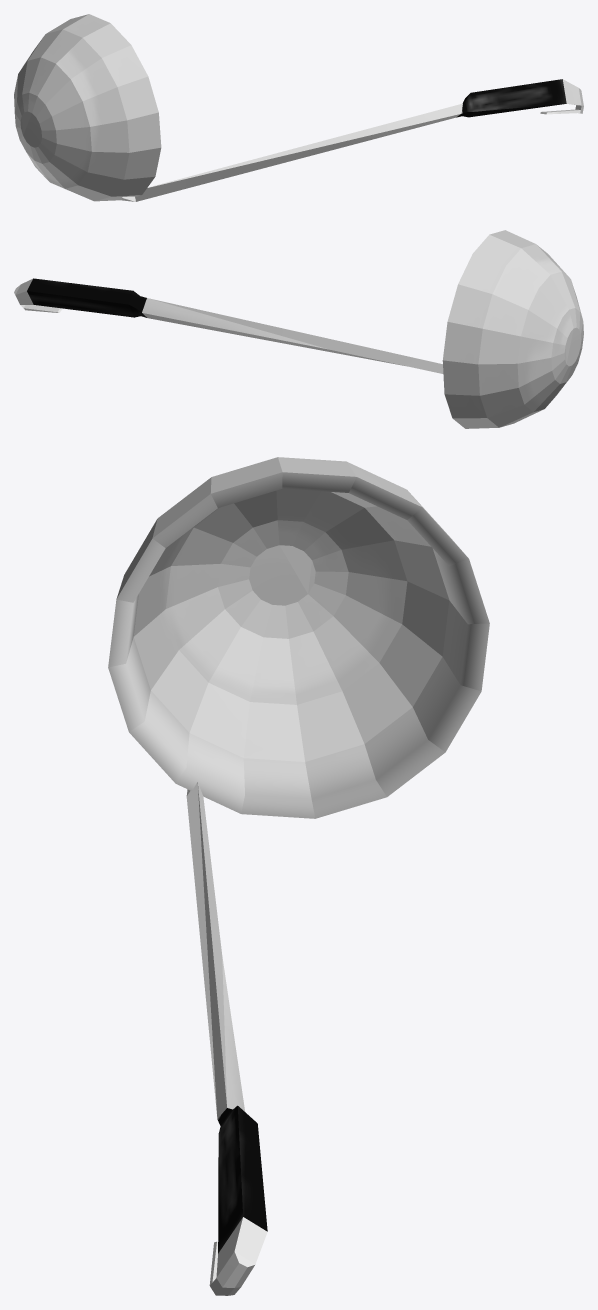
Rendered from Laddle.fbx.
The picture shows the model from 3 angles, top to bottom: view 1: azimuth 30°, elevation 25°; view 2: azimuth 150°, elevation 25°; view 3: azimuth 270°, elevation 25°; orthographic projection. The views are drawn at different scales.
Parts seen in each view (by area): view 1: Laddle; view 2: Laddle; view 3: Laddle.
Boxes of the visible parts, x1,y1,x2,y2 form: Laddle: (14,14,583,201); Laddle: (14,230,583,428); Laddle: (108,457,489,1295).
Bounding box in the file's own units: 84.97 × 28.66 × 25.99.
